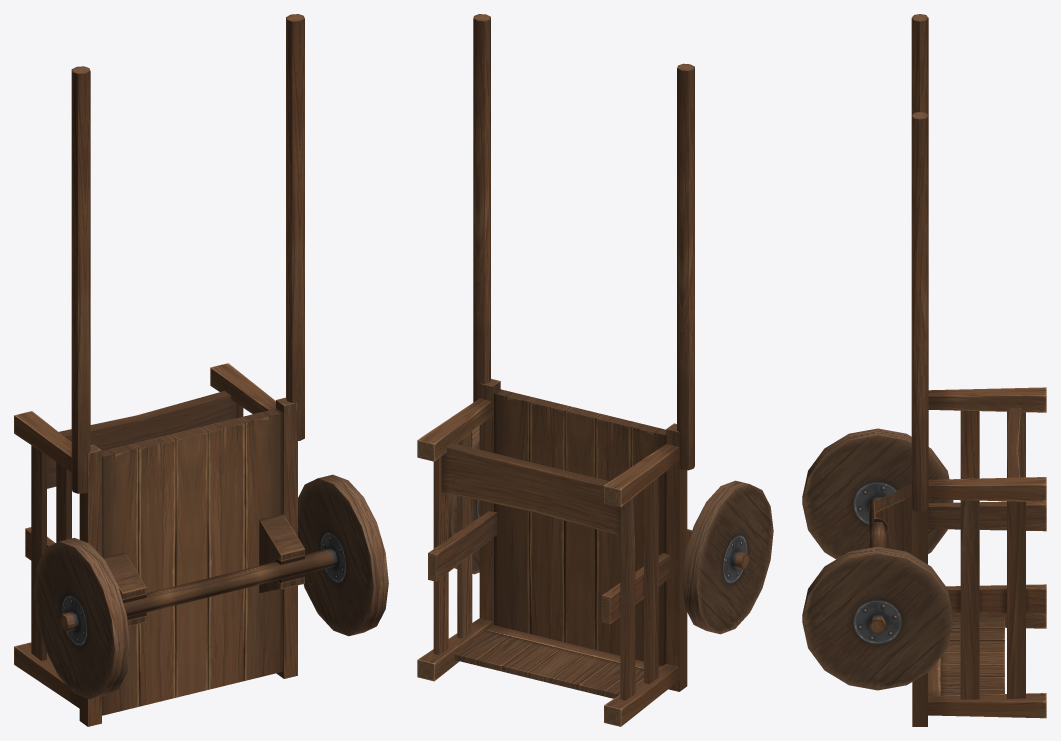
Rendered from cart3.fbx.
The picture shows the model from 3 angles, left to right: view 1: azimuth 30°, elevation 25°; view 2: azimuth 150°, elevation 25°; view 3: azimuth 270°, elevation 25°; orthographic projection. The views are drawn at different scales.
Visible parts, largest first — view 1: cart3_LOD0; view 2: cart3_LOD0; view 3: cart3_LOD0.
Part boxes in pixels (x1,y1,x2,y2): cart3_LOD0: [14, 14, 388, 726]; cart3_LOD0: [417, 14, 773, 726]; cart3_LOD0: [802, 14, 1046, 726].
Size of what is drawn, in the model's own units: 2.16 by 4.57 by 1.65.
